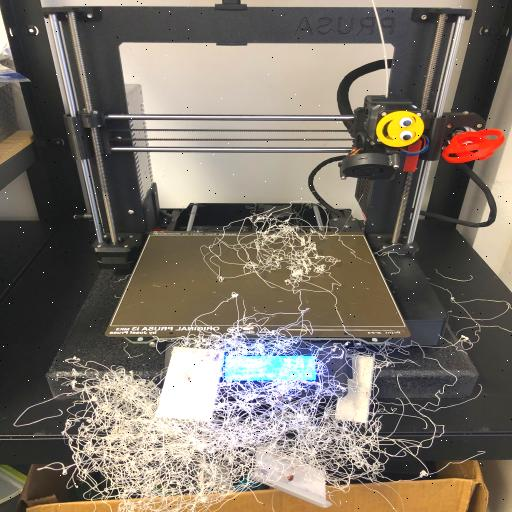spaghetti: (40, 310, 426, 504), (200, 198, 344, 290)
